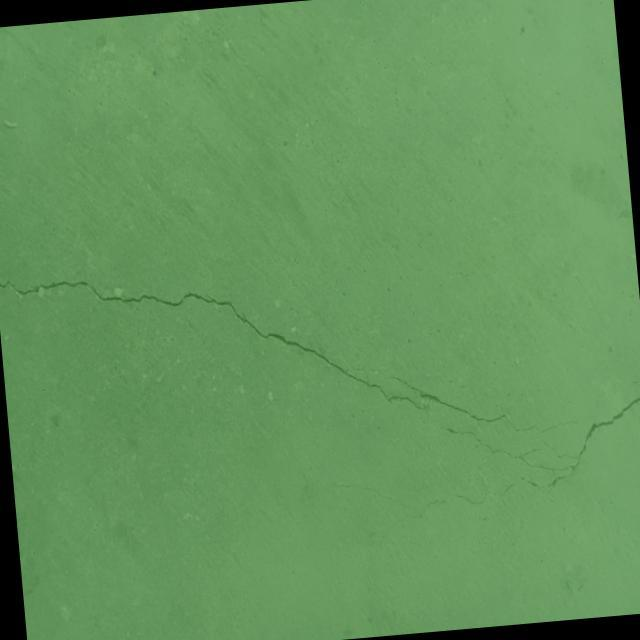crack: (0, 230, 569, 479), (326, 390, 640, 525)
